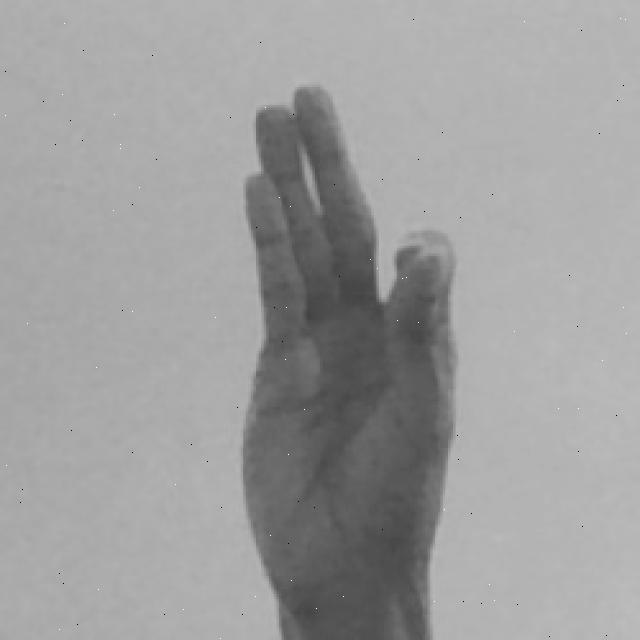F: (239, 83, 468, 640)
